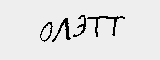Л: (55, 16, 73, 44)
О: (37, 21, 53, 42)
Т: (105, 13, 126, 36), (86, 14, 105, 37)
Э: (74, 11, 86, 39)
